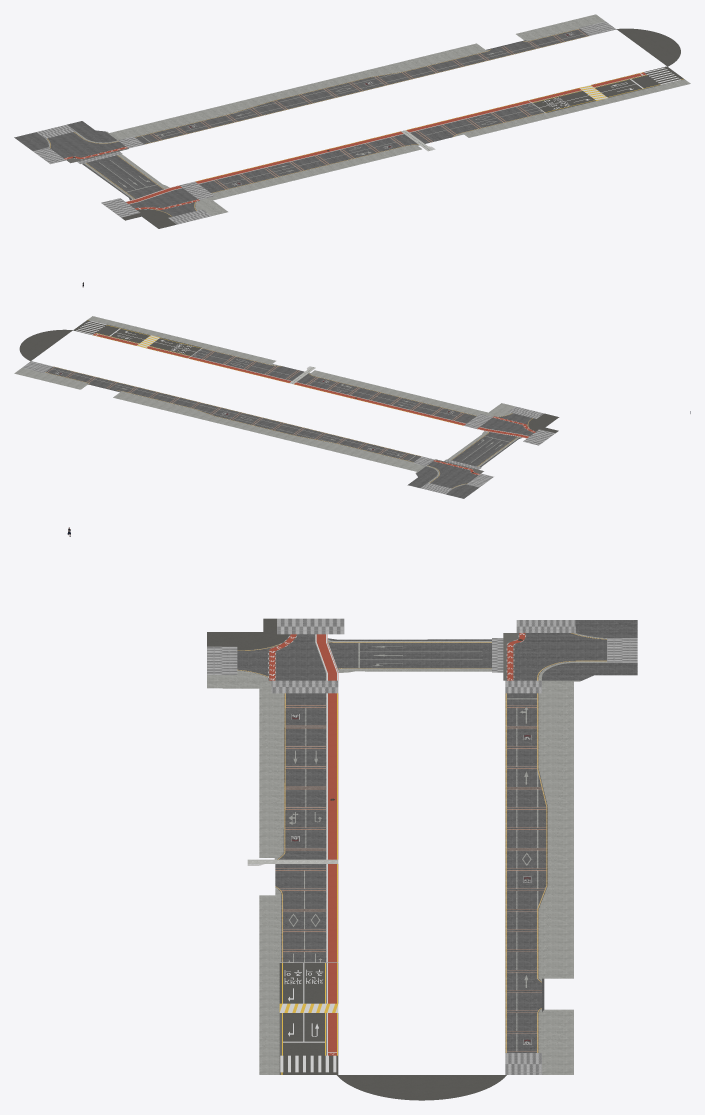
The model's file is Road_1_Test.dae.
3 renders of one model, top to bottom at view 1: azimuth 30°, elevation 25°; view 2: azimuth 150°, elevation 25°; view 3: azimuth 270°, elevation 25°, orthographic. The views are drawn at different scales.
Parts seen in each view (by area): view 1: group_0 (×3), group_2 (×3), group_1, group_3 (×2), group_5, group_6, group_4; view 2: group_0 (×3), group_2 (×3), group_1, group_3 (×2), group_5, group_6, group_4; view 3: group_0 (×2), group_2 (×4), group_1 (×2), group_3 (×3), group_5, group_9 (×3), group_6, group_4.
Part boxes in pixels (<box>): group_0 (×3): <box>106,14,604,144</box>; group_2 (×3): <box>196,79,690,215</box>; group_1: <box>594,28,683,88</box>; group_3 (×2): <box>47,121,125,158</box>; group_5: <box>86,155,156,191</box>; group_6: <box>129,188,197,208</box>; group_4: <box>121,209,176,228</box>; group_0 (×3): <box>14,366,425,473</box>; group_2 (×3): <box>88,316,514,425</box>; group_1: <box>19,320,119,361</box>; group_3 (×2): <box>407,461,477,488</box>; group_5: <box>452,436,509,466</box>; group_6: <box>480,417,533,436</box>; group_4: <box>528,413,559,433</box>; group_0 (×2): <box>538,680,581,1074</box>; group_2 (×4): <box>207,675,336,1074</box>; group_1 (×2): <box>282,963,506,1100</box>; group_3 (×3): <box>514,620,637,680</box>; group_5: <box>360,643,491,667</box>; group_9 (×3): <box>207,618,344,693</box>; group_6: <box>276,634,325,680</box>; group_4: <box>207,618,289,649</box>.
Size of the model in its own units: 8177 by 3498 by 67.76.
46 materials, 22 textured.
